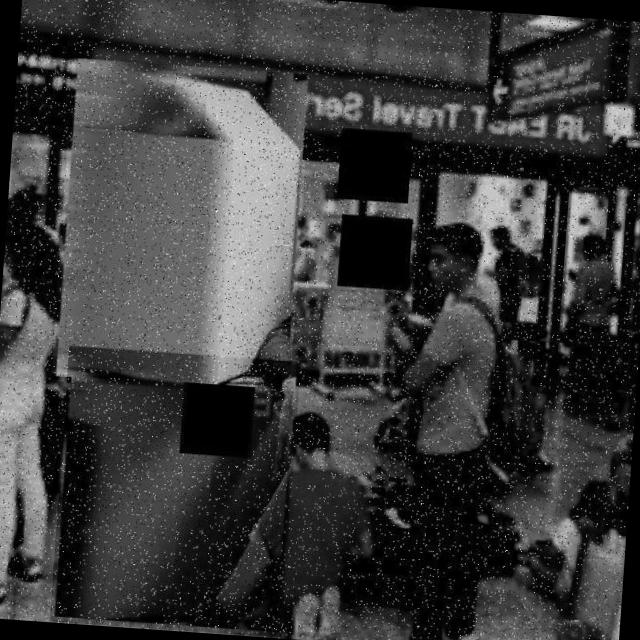box: (50, 54, 311, 397), (49, 346, 300, 638)
